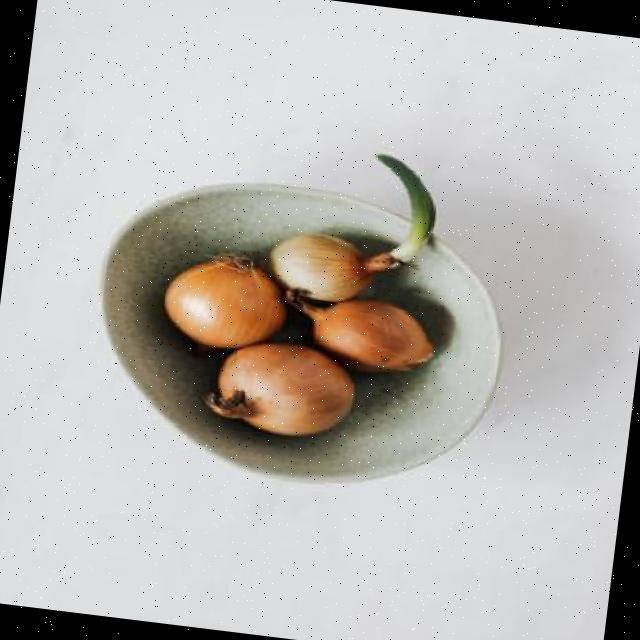Onion: (203, 341, 356, 434), (286, 290, 434, 369), (166, 254, 286, 347), (270, 231, 401, 300)
